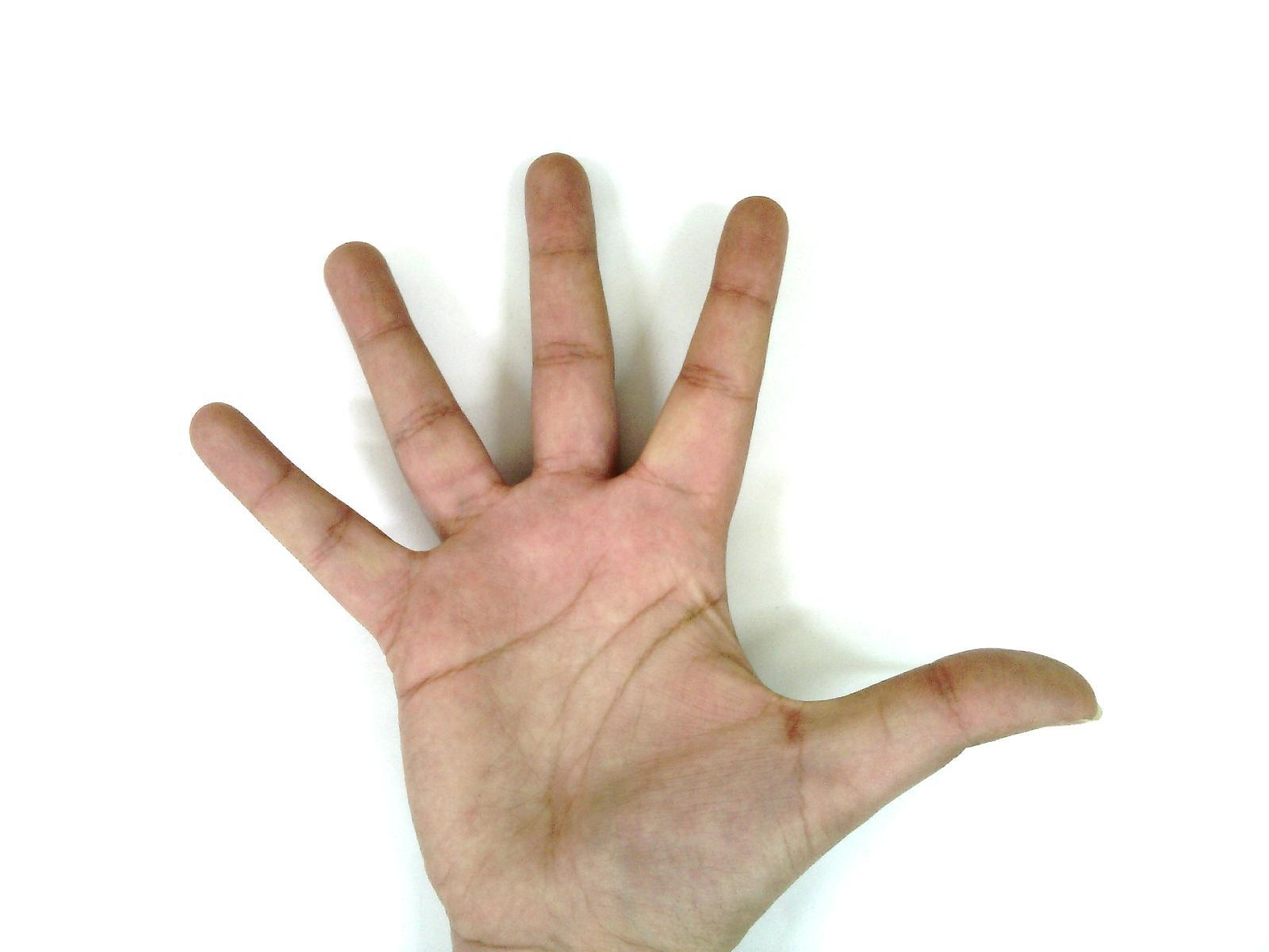open_palm: (186, 151, 1104, 951)
